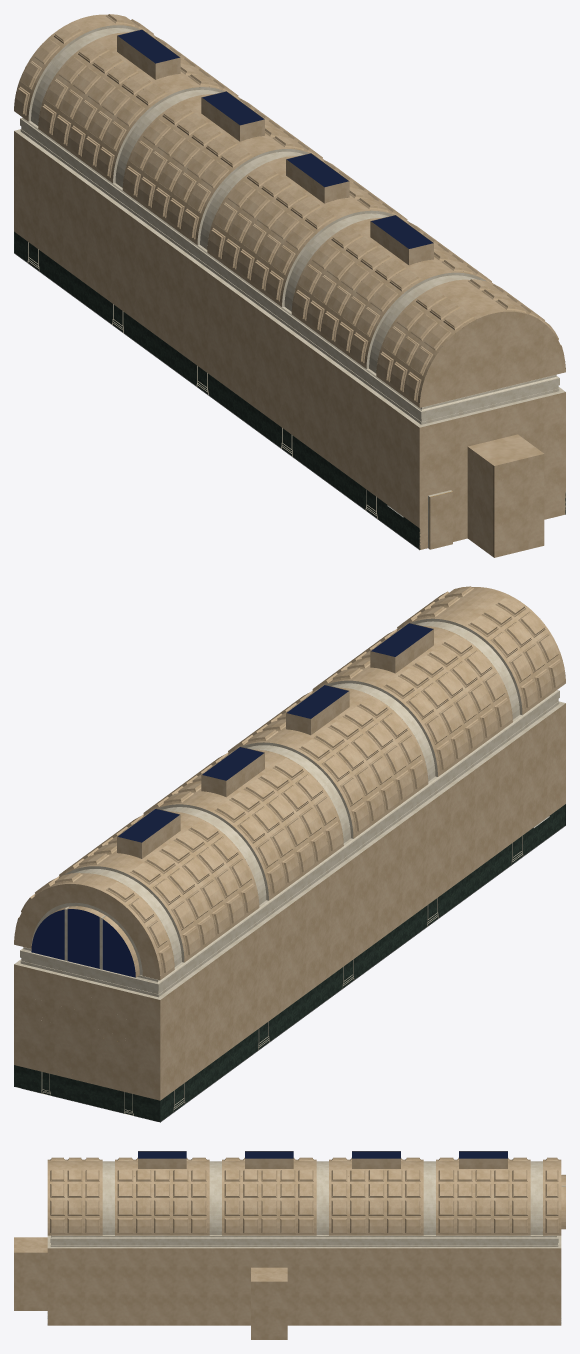
File: sala.glb
The picture shows the model from 3 angles, top to bottom: view 1: azimuth 30°, elevation 25°; view 2: azimuth 150°, elevation 25°; view 3: azimuth 270°, elevation 25°; orthographic projection. The views are drawn at different scales.
Visible parts, largest first — view 1: muros, boveda, emisivos; view 2: muros, boveda, emisivos; view 3: muros, boveda, emisivos.
Boxes of the visible parts, box(x1,y1,x2,y2) form: muros: box(14, 98, 565, 557); boveda: box(14, 14, 565, 407); emisivos: box(118, 29, 433, 248); muros: box(14, 618, 565, 1122); boveda: box(14, 586, 565, 979); emisivos: box(31, 623, 433, 977); muros: box(14, 1174, 565, 1339); boveda: box(47, 1151, 561, 1235); emisivos: box(138, 1151, 507, 1158).
Size of the model in its own units: 9.32 by 10.7 by 36.1.
19 materials, 8 textured.
